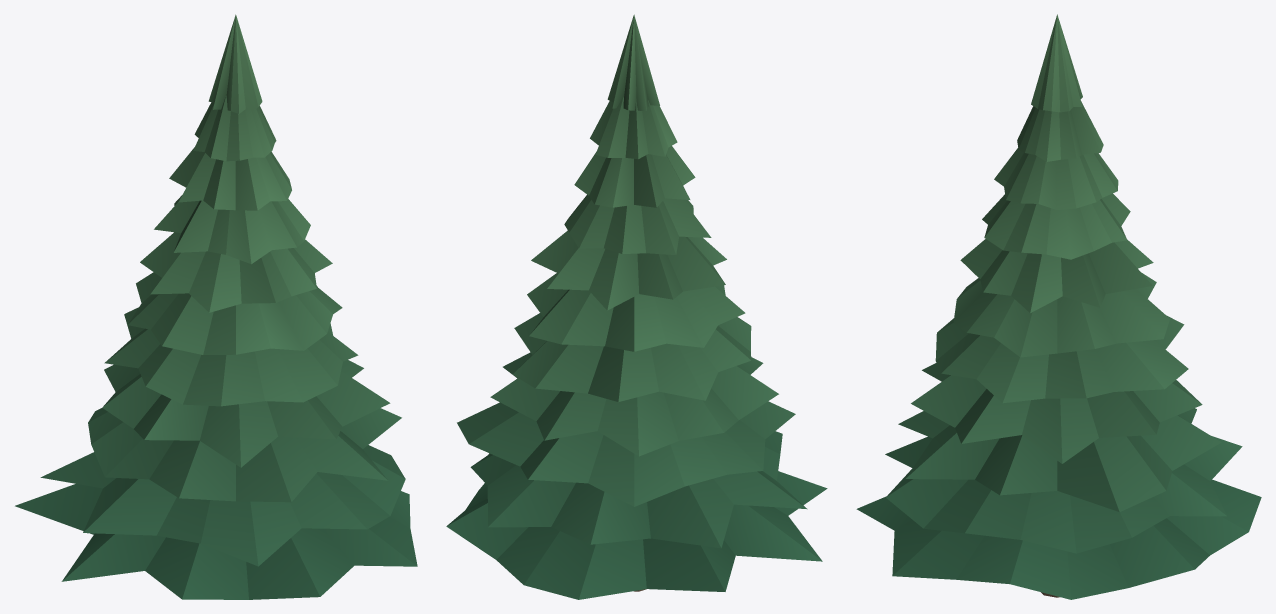
Rendered from tree_conifer_lod0.glb.
3 views of the same model, side by side, from view 1: azimuth 30°, elevation 25°; view 2: azimuth 150°, elevation 25°; view 3: azimuth 270°, elevation 25° (orthographic).
Visible parts, largest first — view 1: tree_conifer_lod0; view 2: tree_conifer_lod0; view 3: tree_conifer_lod0.
Boxes of the visible parts, x1,y1,x2,y2 form: tree_conifer_lod0: [15, 14, 417, 599]; tree_conifer_lod0: [446, 14, 827, 599]; tree_conifer_lod0: [856, 14, 1261, 599].
Bounding box in the file's own units: 5.7 × 9.44 × 6.02.
